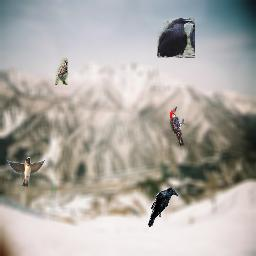Crow: (157, 18, 195, 58), (148, 187, 178, 227)
Sparrow: (55, 58, 68, 85)
Swallow: (7, 157, 47, 187)
Woodpecker: (170, 106, 186, 146)
